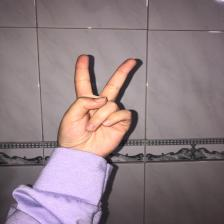two: (58, 51, 142, 151)
